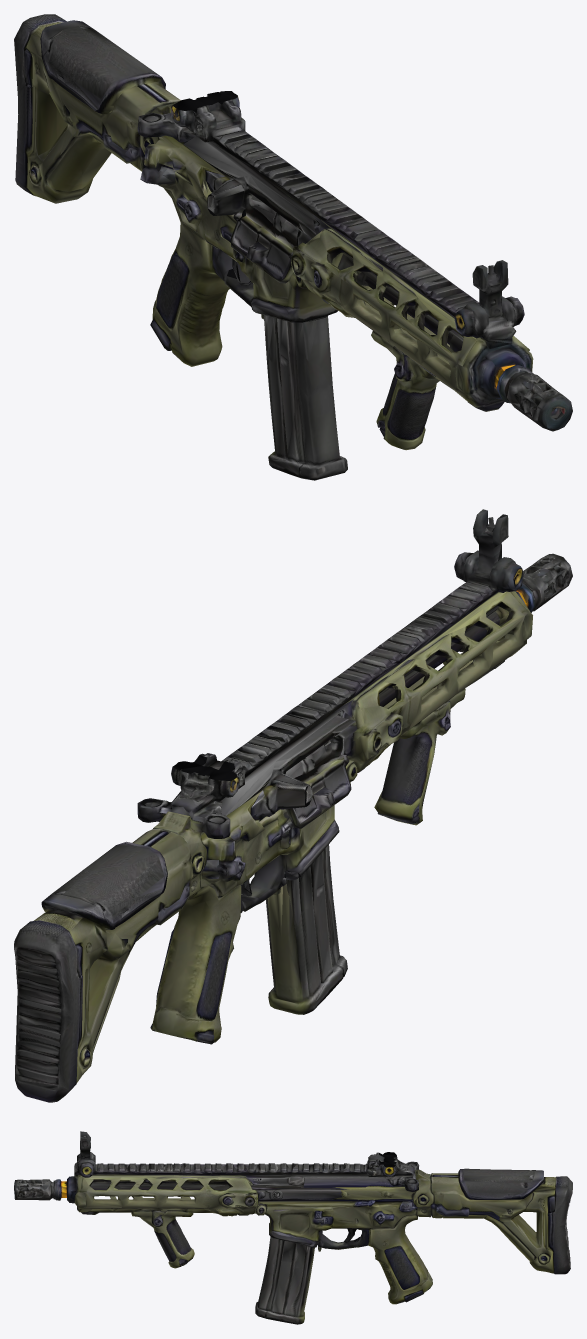
Rendered from wpn_ar_lancer.glb.
3 renders of one model, top to bottom at view 1: azimuth 30°, elevation 25°; view 2: azimuth 150°, elevation 25°; view 3: azimuth 270°, elevation 25°, orthographic. The views are drawn at different scales.
Parts seen in each view (by area): view 1: body, mag, bolt; view 2: body, mag, bolt; view 3: body, mag.
Boxes of the visible parts, box(x1,y1,x2,y2) form: body: box(14, 14, 572, 450); mag: box(251, 304, 347, 480); bolt: box(208, 179, 246, 219); body: box(14, 509, 572, 1102); mag: box(266, 844, 347, 1014); bolt: box(271, 773, 310, 812); body: box(14, 1131, 572, 1304); mag: box(255, 1236, 319, 1324).
Size of the model in its own units: 0.0906 by 0.3145 by 0.8577.
1 material, 1 textured.
